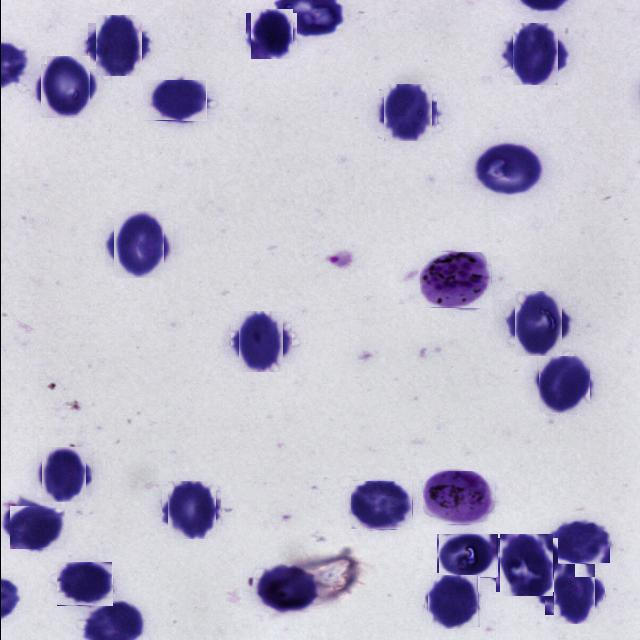gametocyte: (422, 470, 495, 524)
red blood cell: (468, 143, 542, 198), (109, 216, 168, 274), (497, 536, 555, 594), (36, 60, 92, 116), (510, 296, 566, 352), (350, 481, 412, 530), (536, 357, 590, 412), (508, 27, 562, 81), (91, 19, 145, 73), (381, 86, 434, 140), (234, 315, 287, 368), (164, 484, 218, 536), (254, 565, 316, 610), (436, 534, 498, 578), (426, 576, 478, 628), (548, 568, 600, 619), (549, 519, 609, 563), (142, 80, 206, 121), (38, 450, 88, 500), (56, 562, 112, 606), (9, 506, 64, 549), (247, 11, 294, 57)
schizont: (419, 252, 491, 308)
